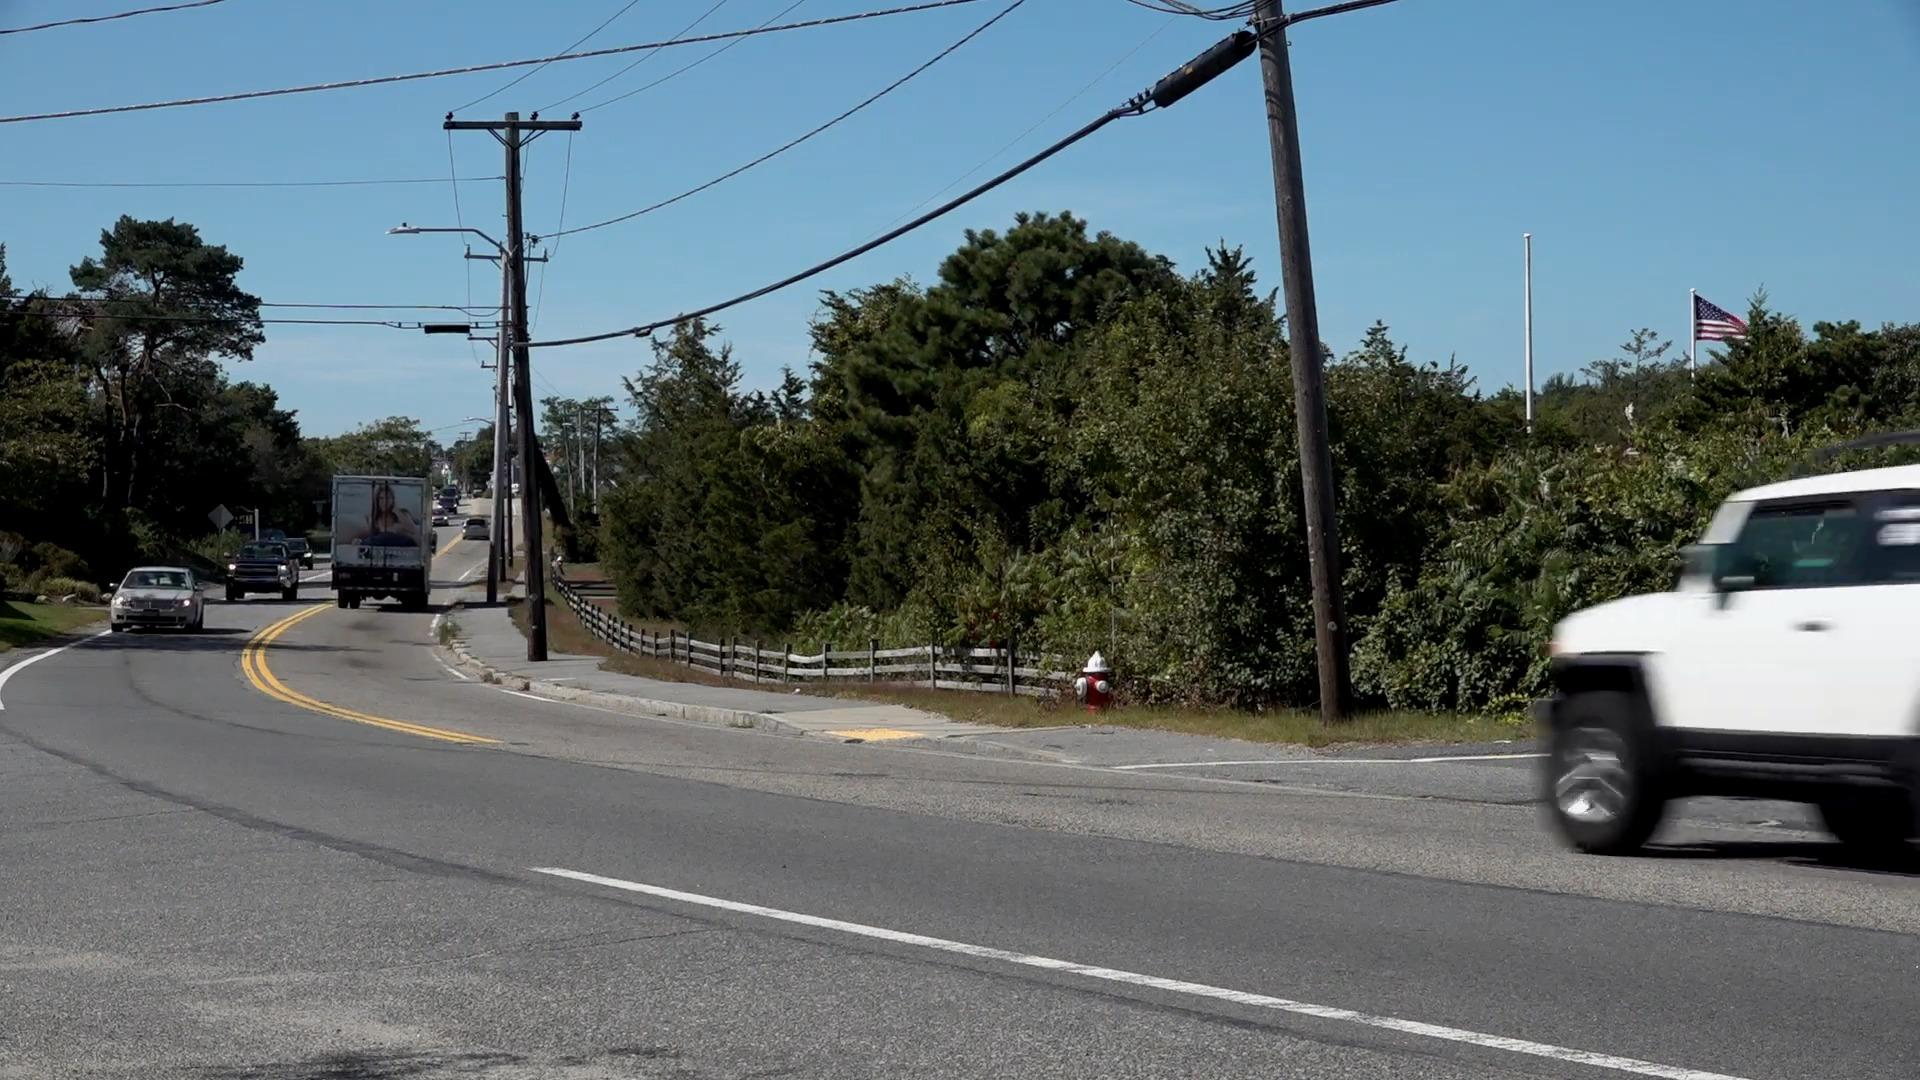pickup: (230, 532, 302, 602)
sedans: (108, 568, 203, 642)
suv: (1538, 458, 1917, 858)
truck: (328, 472, 435, 610)
